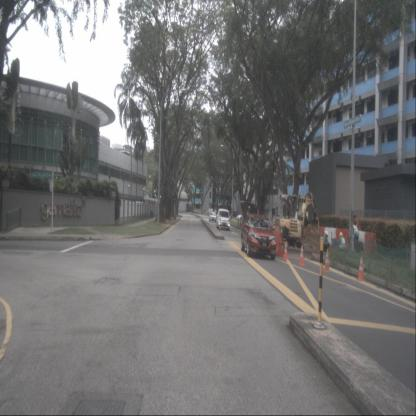barrier: (268, 230, 283, 257), (323, 227, 337, 244), (335, 228, 349, 244), (364, 231, 376, 249), (355, 231, 365, 248), (318, 226, 324, 242)
cone: (357, 255, 366, 281), (324, 249, 330, 272), (298, 244, 304, 266), (283, 240, 288, 260)
